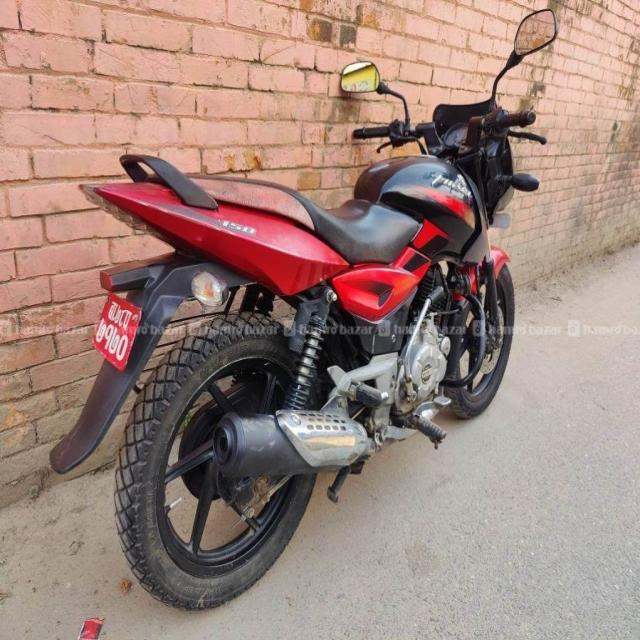License-plate: (92, 290, 142, 367)
